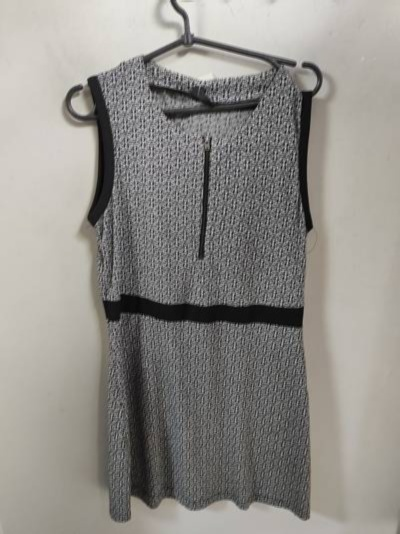Dress: (82, 40, 357, 528)
